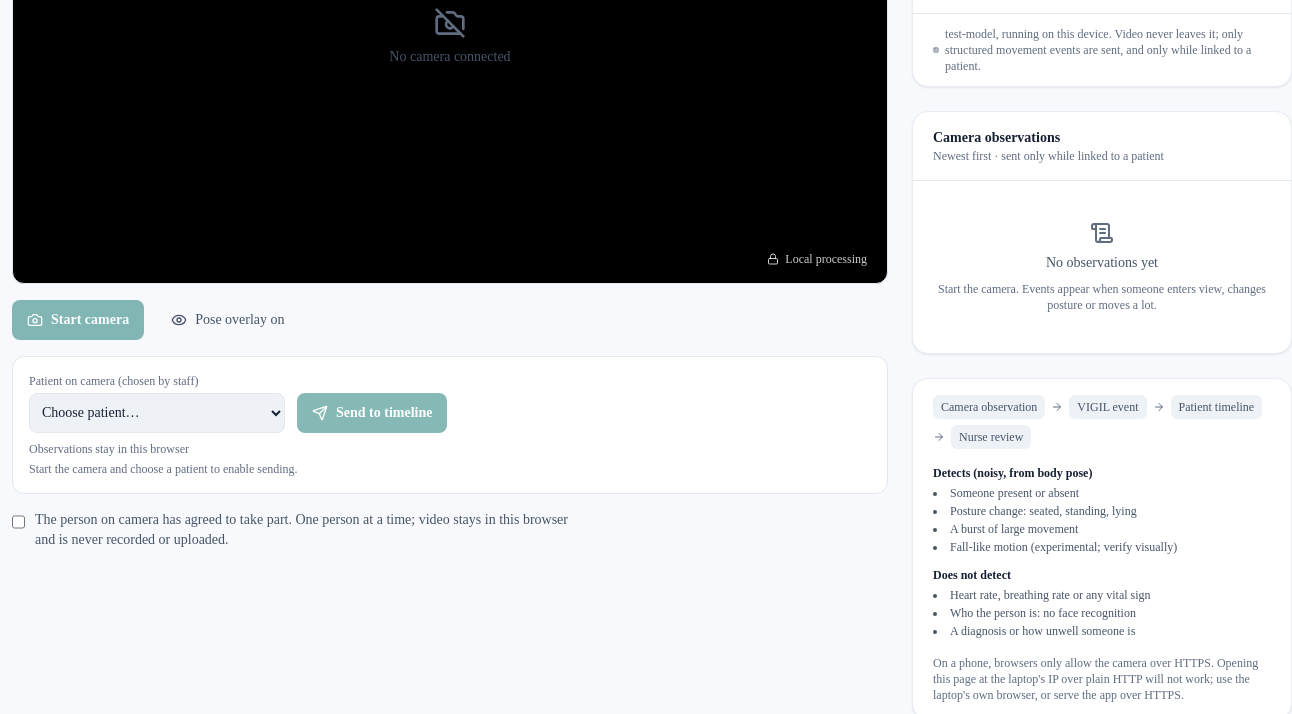
VIGIL Vision camera lifecycle › explains when the browser has no camera API
(page scrolled)
Click the checkbox.
click(18, 522)  # box [12,514,25,530]
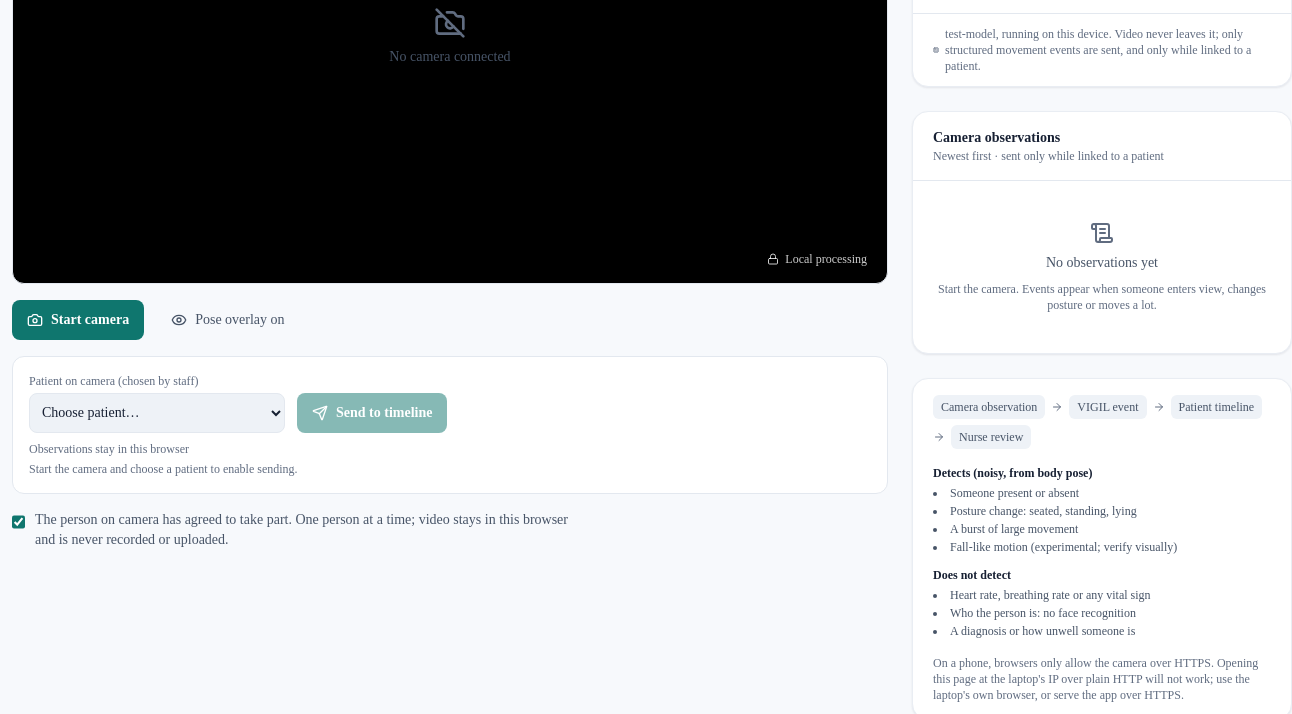
Click the button "Start camera".
click(78, 320)  # box [12,300,144,340]
(page scrolled)
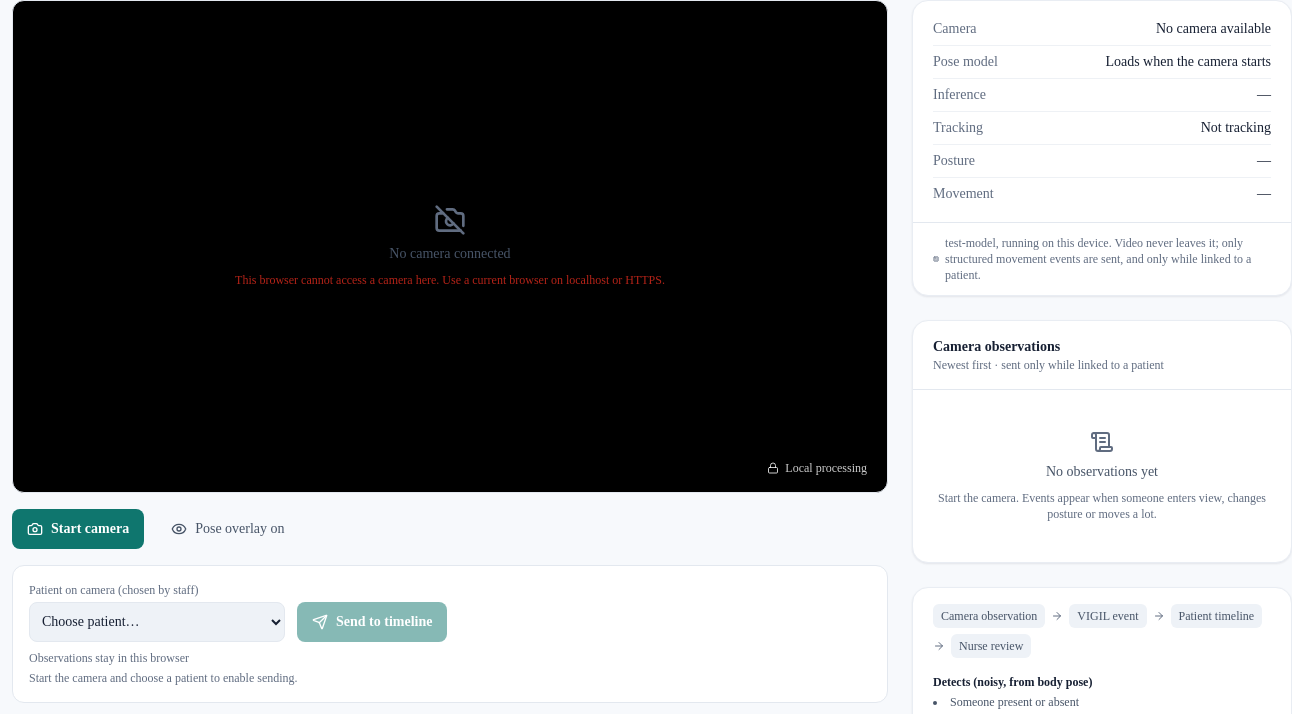
Expected: the text "No camera available" is shown, [1156,19,1271,39]
